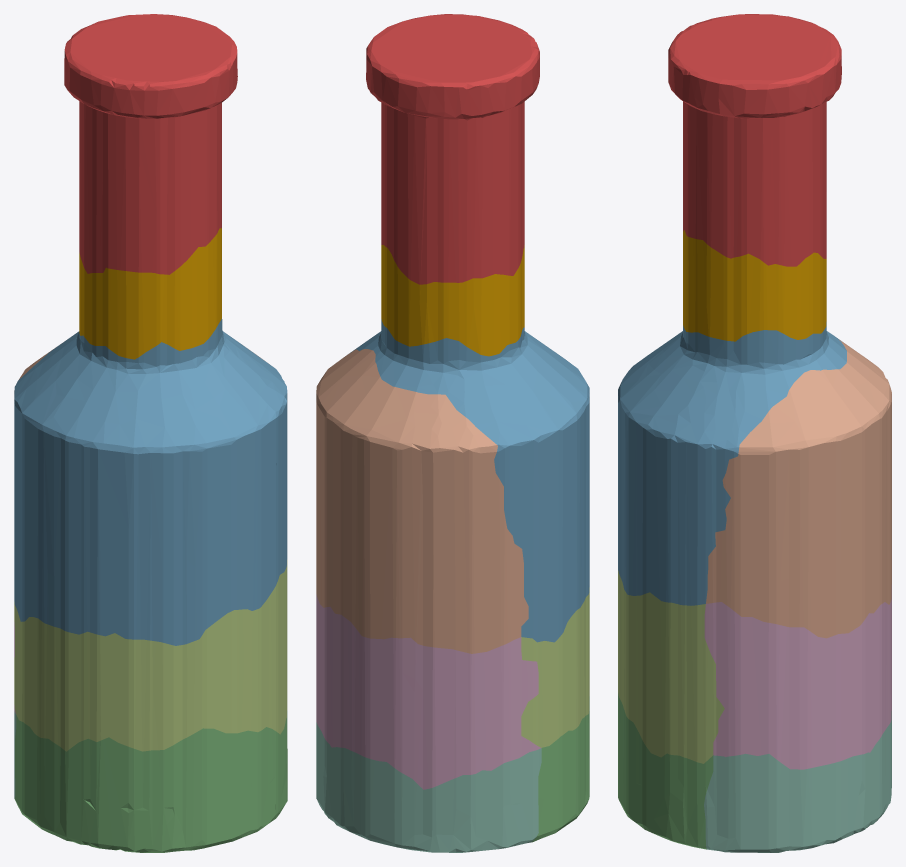
File: fractured_8_8pcs.glb
The picture shows the model from 3 angles, left to right: view 1: azimuth 30°, elevation 25°; view 2: azimuth 150°, elevation 25°; view 3: azimuth 270°, elevation 25°; orthographic projection.
Visible parts, largest first — view 1: piece_2.obj, piece_1.obj, piece_5.obj, piece_3.obj, piece_0.obj; view 2: piece_7.obj, piece_1.obj, piece_2.obj, piece_6.obj, piece_4.obj, piece_0.obj, piece_5.obj, piece_3.obj; view 3: piece_7.obj, piece_1.obj, piece_2.obj, piece_6.obj, piece_4.obj, piece_5.obj, piece_0.obj, piece_3.obj.
Part boxes in pixels (x1,y1,x2,y2): piece_2.obj: [14, 319, 287, 645]; piece_1.obj: [64, 14, 237, 274]; piece_5.obj: [14, 560, 287, 751]; piece_3.obj: [14, 711, 287, 852]; piece_0.obj: [79, 228, 221, 359]; piece_7.obj: [316, 349, 528, 653]; piece_1.obj: [366, 14, 539, 284]; piece_2.obj: [350, 319, 589, 642]; piece_6.obj: [316, 594, 540, 789]; piece_4.obj: [316, 722, 541, 852]; piece_0.obj: [381, 245, 524, 356]; piece_5.obj: [521, 587, 589, 747]; piece_3.obj: [531, 696, 589, 842]; piece_7.obj: [706, 340, 891, 638]; piece_1.obj: [668, 14, 841, 266]; piece_2.obj: [618, 322, 846, 605]; piece_6.obj: [704, 585, 891, 769]; piece_4.obj: [704, 711, 891, 852]; piece_5.obj: [618, 570, 724, 763]; piece_0.obj: [683, 230, 826, 341]; piece_3.obj: [618, 693, 713, 849].
Bounding box in the file's own units: 0.3308 × 1 × 0.3308.
